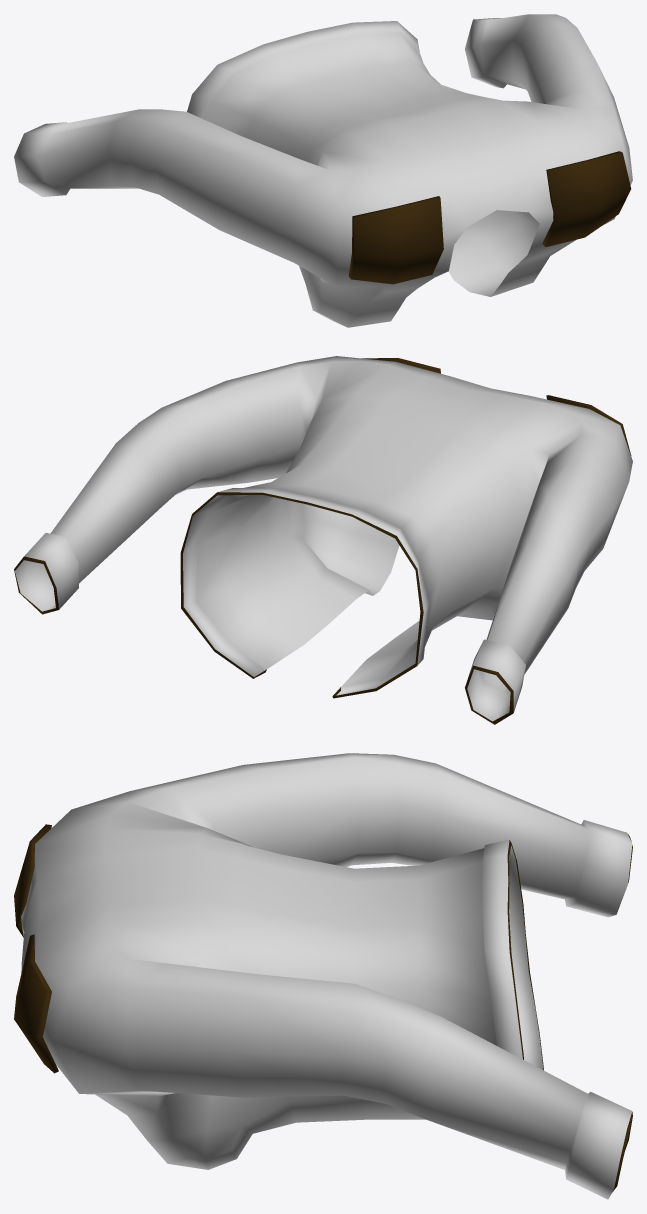
File: jacket.fbx
The picture shows the model from 3 angles, top to bottom: view 1: azimuth 30°, elevation 25°; view 2: azimuth 150°, elevation 25°; view 3: azimuth 270°, elevation 25°; orthographic projection. The views are drawn at different scales.
Visible parts, largest first — view 1: jacket; view 2: jacket; view 3: jacket.
Part boxes in pixels (x1,y1,x2,y2): jacket: (14, 14, 632, 327); jacket: (14, 356, 632, 724); jacket: (14, 753, 632, 1199).
Bounding box in the file's own units: 0.6668 × 0.2468 × 0.5592.
